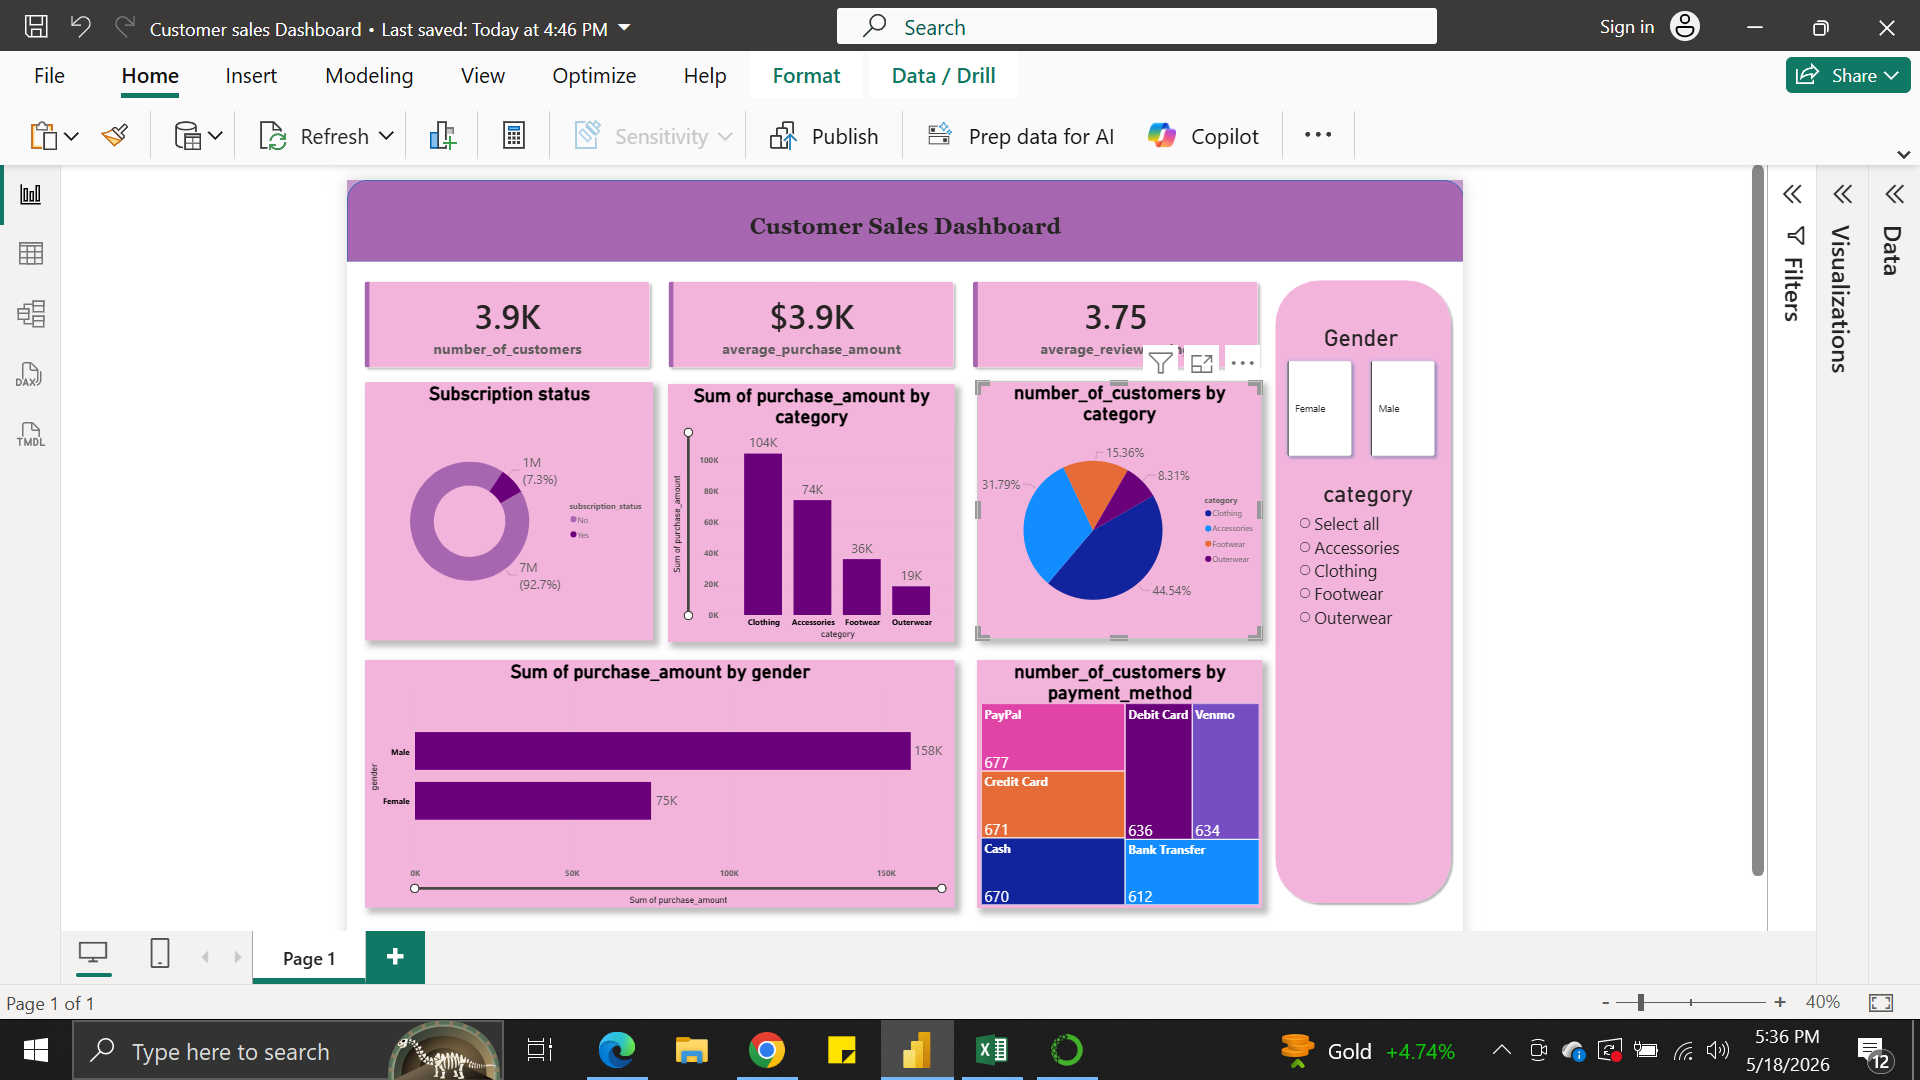

Layout of this report page (visuals, bound fields, positions):
{"tool":"powerbi","page":{"name":"Page 1","canvas":[1861,1350],"ordinal":0},"visuals":[{"type":"cardVisual","fields":{"Data":["public customer.number_of_customers","public customer.average_purchase_amount","public customer.average_review_rating"]},"box":[0,138.8,1548.8,201.2],"z":0},{"type":"shape","box":[0,0,1862,136],"z":1000},{"type":"textbox","box":[0,50,1862,64],"z":2000},{"type":"textbox","box":[93.4,375.6,322.2,202.1],"z":3000},{"type":"donutChart","title":"Subscription status ","fields":{"Category":["public customer.subscription_status"],"Y":["Sum(public customer.customer_id)"]},"box":[30,337.5,480,430],"z":4000},{"type":"columnChart","fields":{"Category":["public customer.category"],"Y":["Sum(public customer.purchase_amount)"]},"box":[534.7,340.6,477.4,430],"z":5000},{"type":"clusteredBarChart","fields":{"Category":["public customer.gender"],"Y":["Sum(public customer.purchase_amount)"]},"box":[30,800,982.5,412.5],"z":6000},{"type":"pieChart","fields":{"Category":["public customer.category"],"Y":["public customer.number_of_customers"]},"box":[1050,336,474,430],"z":7000},{"type":"treemap","fields":{"Values":["public customer.number_of_customers"],"Details":["public customer.payment_method"]},"box":[1050,800,475,413],"z":8000},{"type":"shape","box":[1540,160,307.5,1052.5],"z":9000},{"type":"advancedSlicerVisual","title":"Gender","fields":{"Values":["public customer.gender"]},"box":[1550,240,280,237.5],"z":10000},{"type":"listSlicer","fields":{"Values":["public customer.category"]},"box":[1572.5,490,257.5,310],"z":12000}]}

Visuals, with their boxes on the page's 1861x1350 design canvas (x1, y1, x2, y2). These are canvas units, not pixel positions in the 1920x1080 screenshot, which may show the page scaled, cropped or inside an application window:
cardVisual - public customer.number_of_customers x public customer.average_purchase_amount: region(0, 139, 1549, 340)
shape: region(0, 0, 1862, 136)
textbox: region(0, 50, 1862, 114)
textbox: region(93, 376, 416, 578)
"Subscription status " donutChart: region(30, 338, 510, 768)
columnChart - public customer.category x Sum(public customer.purchase_amount): region(535, 341, 1012, 771)
clusteredBarChart - public customer.gender x Sum(public customer.purchase_amount): region(30, 800, 1012, 1212)
pieChart - public customer.category x public customer.number_of_customers: region(1050, 336, 1524, 766)
treemap - public customer.number_of_customers x public customer.payment_method: region(1050, 800, 1525, 1213)
shape: region(1540, 160, 1848, 1212)
"Gender" advancedSlicerVisual: region(1550, 240, 1830, 478)
listSlicer - public customer.category: region(1572, 490, 1830, 800)
